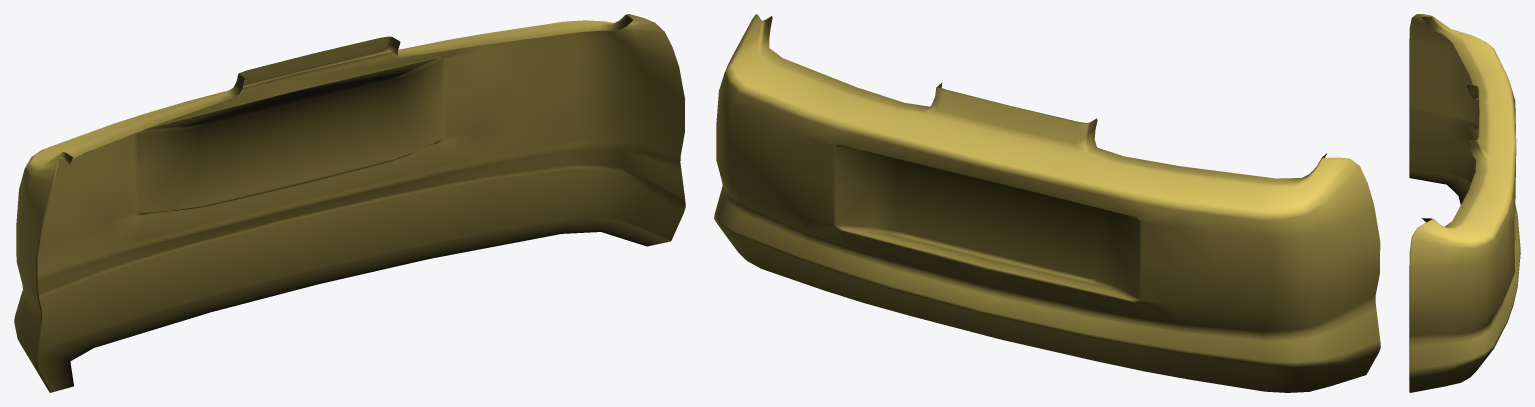
The model's file is Supra_RearBar_01_Duco.fbx.
3 views of the same model, side by side, from view 1: azimuth 30°, elevation 25°; view 2: azimuth 150°, elevation 25°; view 3: azimuth 270°, elevation 25° (orthographic). The views are drawn at different scales.
Parts seen in each view (by area): view 1: Supra_RearBar_01_Duco; view 2: Supra_RearBar_01_Duco; view 3: Supra_RearBar_01_Duco.
Part boxes in pixels (x1,y1,x2,y2): Supra_RearBar_01_Duco: (14,14,685,392); Supra_RearBar_01_Duco: (714,14,1380,392); Supra_RearBar_01_Duco: (1409,14,1520,392).
Bounding box in the file's own units: 152 × 51.15 × 30.64.
